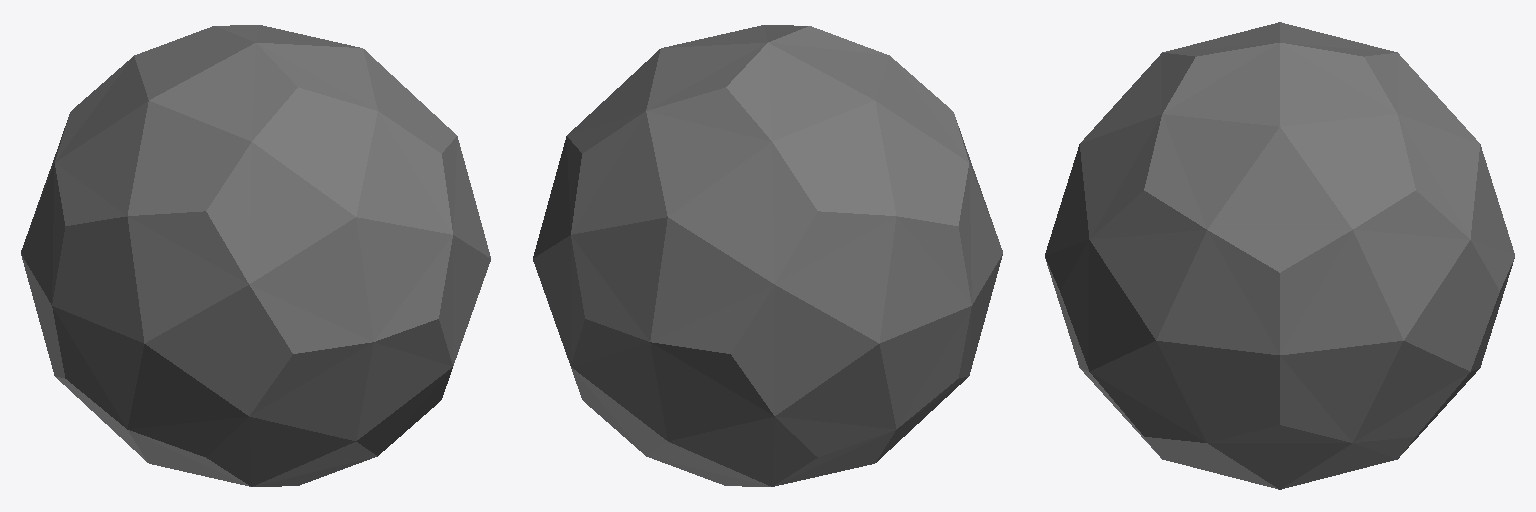
The model's file is PentaSphere.obj.
3 renders of one model, left to right at view 1: azimuth 30°, elevation 25°; view 2: azimuth 150°, elevation 25°; view 3: azimuth 270°, elevation 25°, orthographic.
Visible parts, largest first — view 1: pentaSphere1; view 2: pentaSphere1; view 3: pentaSphere1.
Boxes of the visible parts, x1=… form: pentaSphere1: x1=21, y1=25, x2=490, y2=486; pentaSphere1: x1=533, y1=25, x2=1002, y2=486; pentaSphere1: x1=1045, y1=22, x2=1514, y2=489.
Bounding box in the file's own units: 10 × 10 × 10.